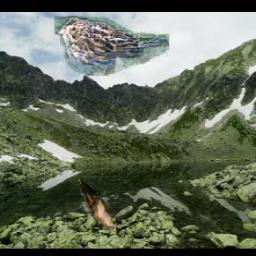Cuckoo: (75, 176, 115, 230)
Sparrow: (56, 17, 170, 77)
